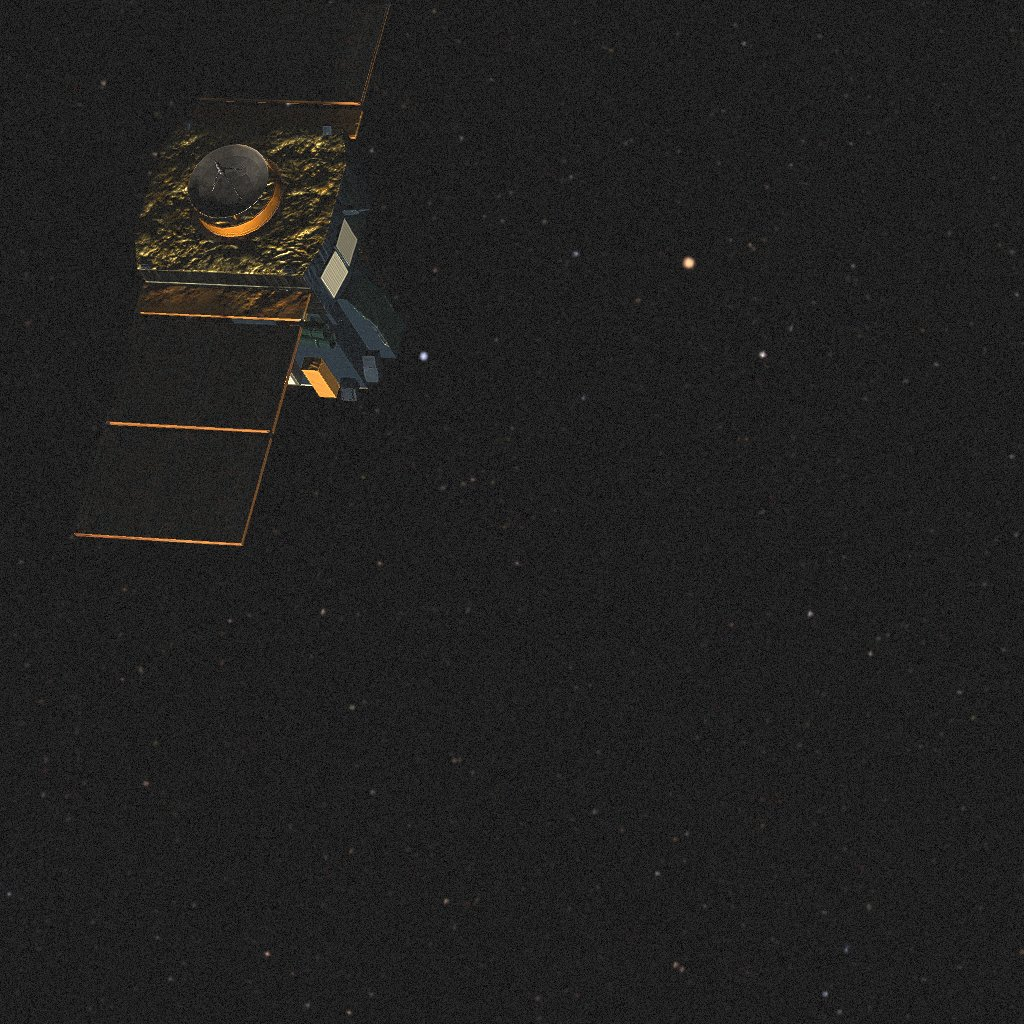soho: (91, 18, 411, 547)
